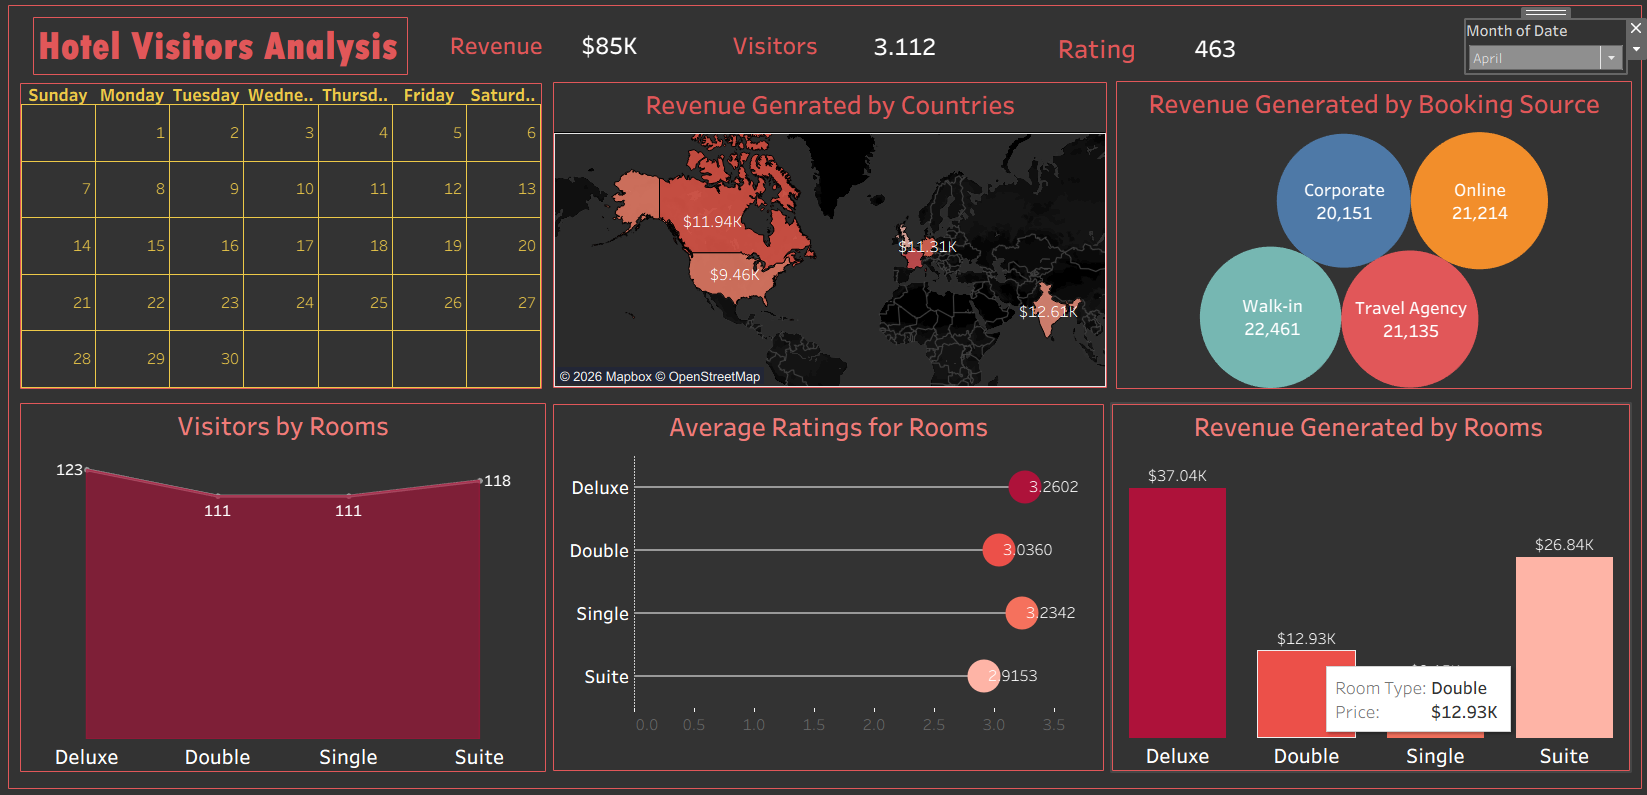

What the dashboard file says about the page in this screenshot:
{"tool":"tableau","page":{"name":"Dashboard 1","canvas":[1650,800],"ordinal":0},"visuals":[{"type":"text","box":[33,20,375,58]},{"type":"filter","title":"Calendar","param":"[federated.0ea6wh81aptnsi101ad1w0d95moh].[mn:Date:ok]","box":[1466,23,160,53]},{"type":"worksheet","title":"Revenue","mark":"Automatic","box":[561,32,160,77]},{"type":"text","box":[729,32,100,32]},{"type":"text","box":[446,33,100,30]},{"type":"worksheet","title":"Ratings","mark":"Automatic","box":[860,33,196,150]},{"type":"text","box":[1054,34,100,35]},{"type":"worksheet","title":"total vistors","mark":"Automatic","box":[1180,35,125,52]},{"type":"worksheet","title":"Revenue by booking source","mark":"Circle","box":[1116,84,516,308]},{"type":"worksheet","title":"Revenue by countries","mark":"Multipolygon","box":[553,85,554,306]},{"type":"worksheet","title":"Calendar","mark":"Square","rows":["Date"],"cols":["Date"],"box":[20,86,522,306]},{"type":"worksheet","title":"Visitors by room","mark":"Automatic","rows":["hotel_analysis_dataset.csv_17711BF8BDF64BAEBB825666E681201B","hotel_analysis_dataset.csv_17711BF8BDF64BAEBB825666E681201B"],"cols":["Room_Type"],"box":[20,406,526,369]},{"type":"worksheet","title":"Average rating","mark":"Automatic","rows":["Room_Type"],"cols":["Customer_Rating","Customer_Rating"],"box":[553,407,551,367]},{"type":"worksheet","title":"Revenue by rooms","mark":"Automatic","rows":["Price"],"cols":["Room_Type"],"box":[1112,407,518,367]}]}

Visuals, with their boxes in screenshot pixels (x1, y1, x2, y2), scaled from the page's 1650x800 canvas onto the 1647x795 screenshot:
text: {"x1": 33, "y1": 20, "x2": 407, "y2": 78}
"Calendar" filter: {"x1": 1463, "y1": 23, "x2": 1623, "y2": 76}
"Revenue" worksheet: {"x1": 560, "y1": 32, "x2": 720, "y2": 108}
text: {"x1": 728, "y1": 32, "x2": 827, "y2": 64}
text: {"x1": 445, "y1": 33, "x2": 545, "y2": 63}
"Ratings" worksheet: {"x1": 858, "y1": 33, "x2": 1054, "y2": 182}
text: {"x1": 1052, "y1": 34, "x2": 1152, "y2": 69}
"total vistors" worksheet: {"x1": 1178, "y1": 35, "x2": 1303, "y2": 86}
"Revenue by booking source" worksheet (Circle marks): {"x1": 1114, "y1": 83, "x2": 1629, "y2": 390}
"Revenue by countries" worksheet (Multipolygon marks): {"x1": 552, "y1": 84, "x2": 1105, "y2": 389}
"Calendar" worksheet (Square marks): {"x1": 20, "y1": 85, "x2": 541, "y2": 390}
"Visitors by room" worksheet: {"x1": 20, "y1": 403, "x2": 545, "y2": 770}
"Average rating" worksheet: {"x1": 552, "y1": 404, "x2": 1102, "y2": 769}
"Revenue by rooms" worksheet: {"x1": 1110, "y1": 404, "x2": 1627, "y2": 769}
